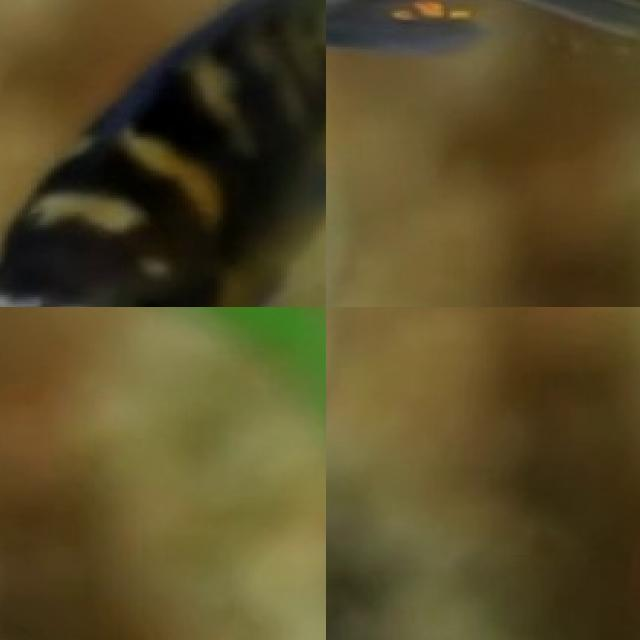fish: (0, 0, 326, 307), (0, 307, 144, 445)
